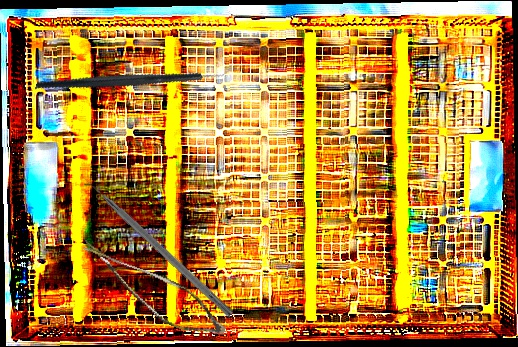Chopper: (34, 8, 234, 144)
Hook Surgical: (77, 170, 236, 319)
Micro Scissor: (64, 238, 238, 345)
